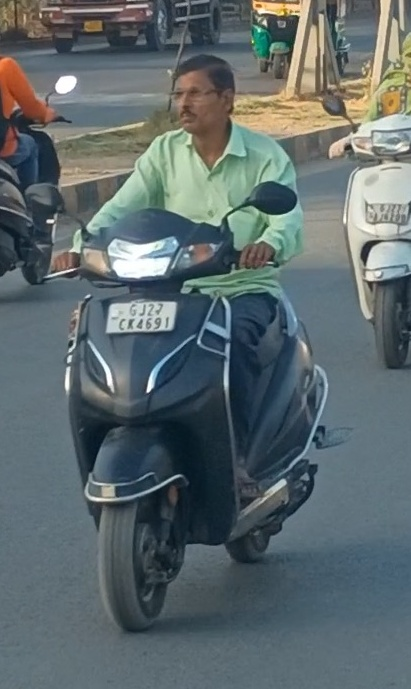BikeWithRider: (39, 46, 359, 639)
NoHelmet: (161, 47, 245, 141)
